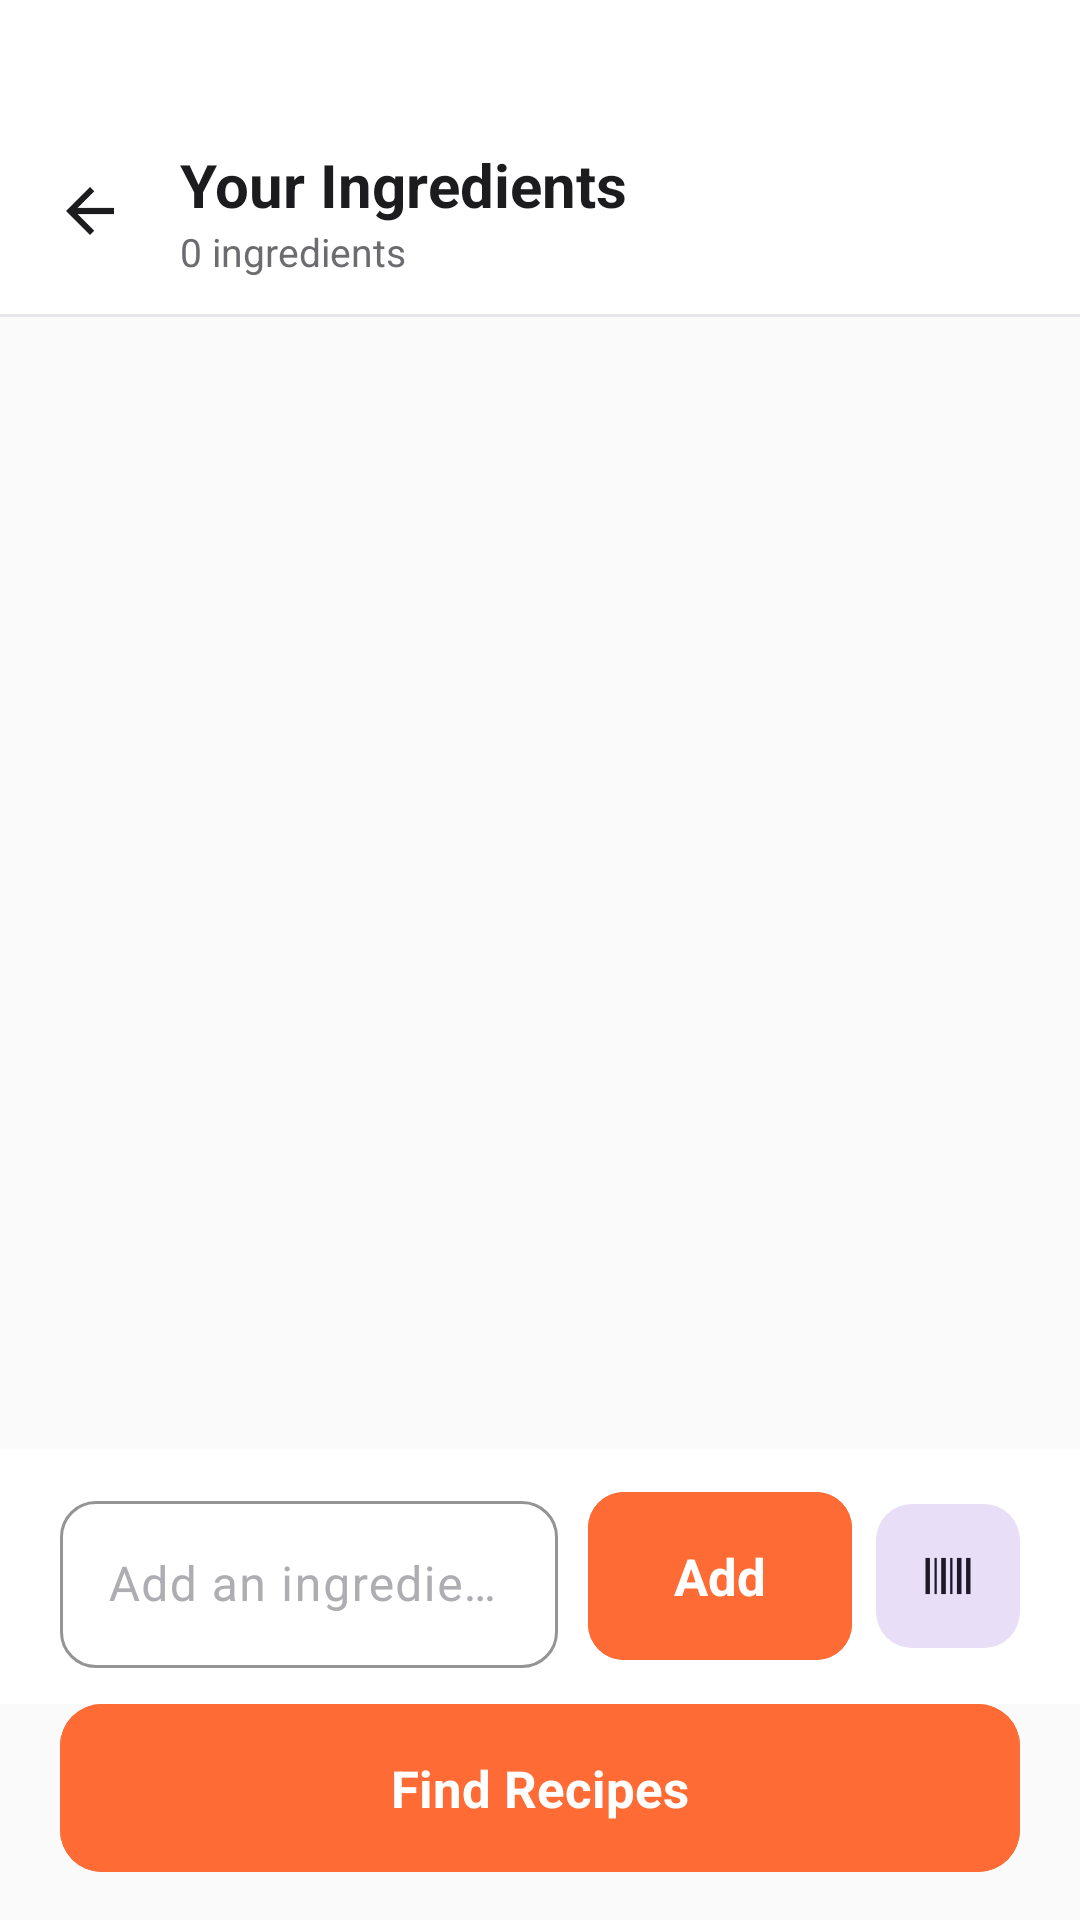

Icon click points for this 1080*1920 phone screenshot, format point (x, y):
Back: point (90, 211)
Scan product barcode: point (948, 1576)
